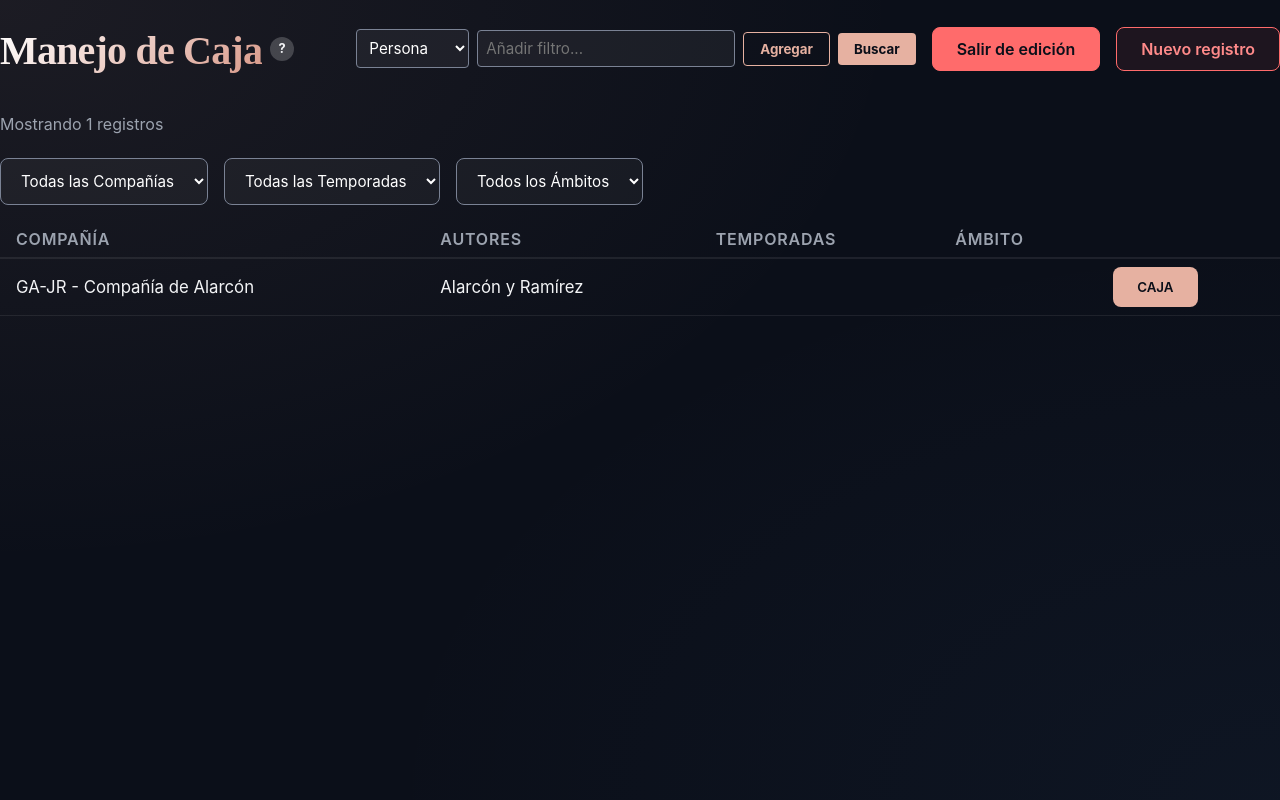
Test case: modo edición en Manejo de Caja › «Nuevo registro» abre el diálogo de alta
Select "Texto libre" in the dropdown named "Buscar en" at (413, 49), box [356,29,469,68]
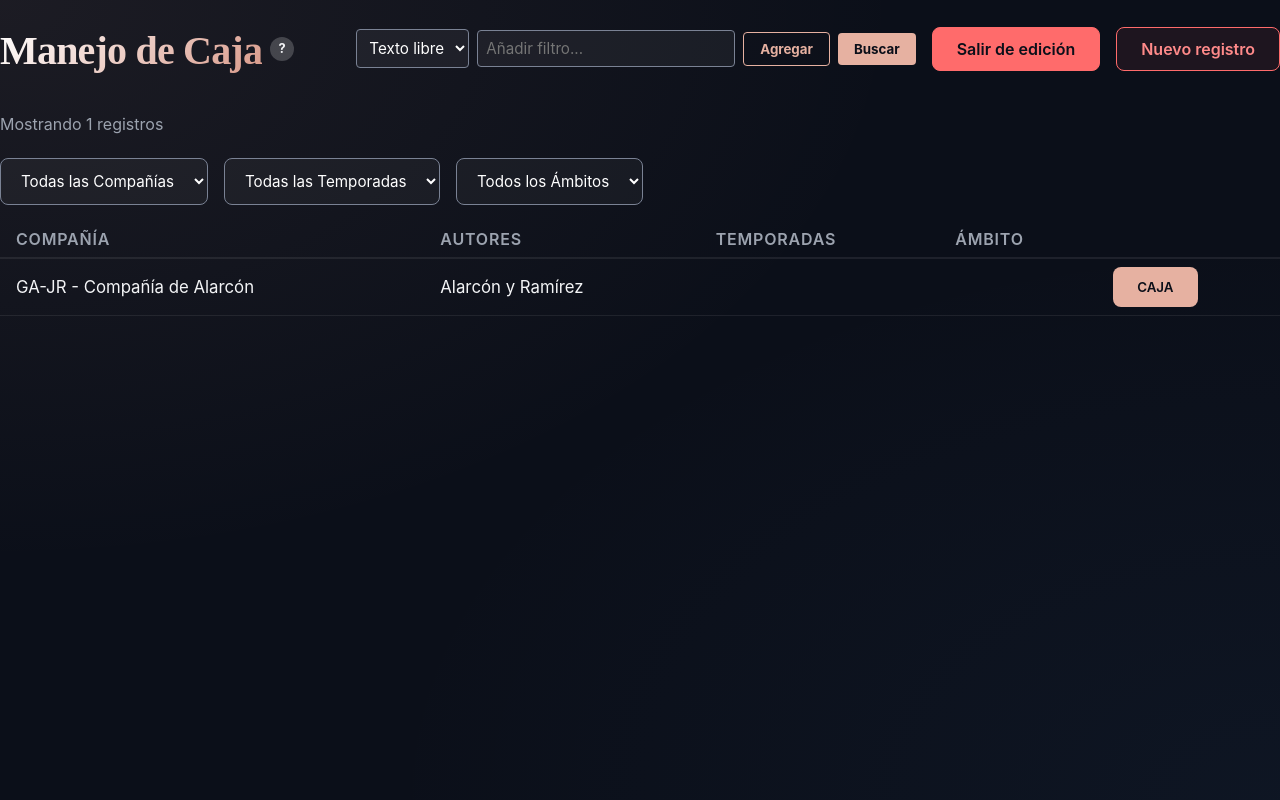
Type "Potosí" into the field with placeholder "Añadir filtro..." at (606, 49), box [477,30,735,67]
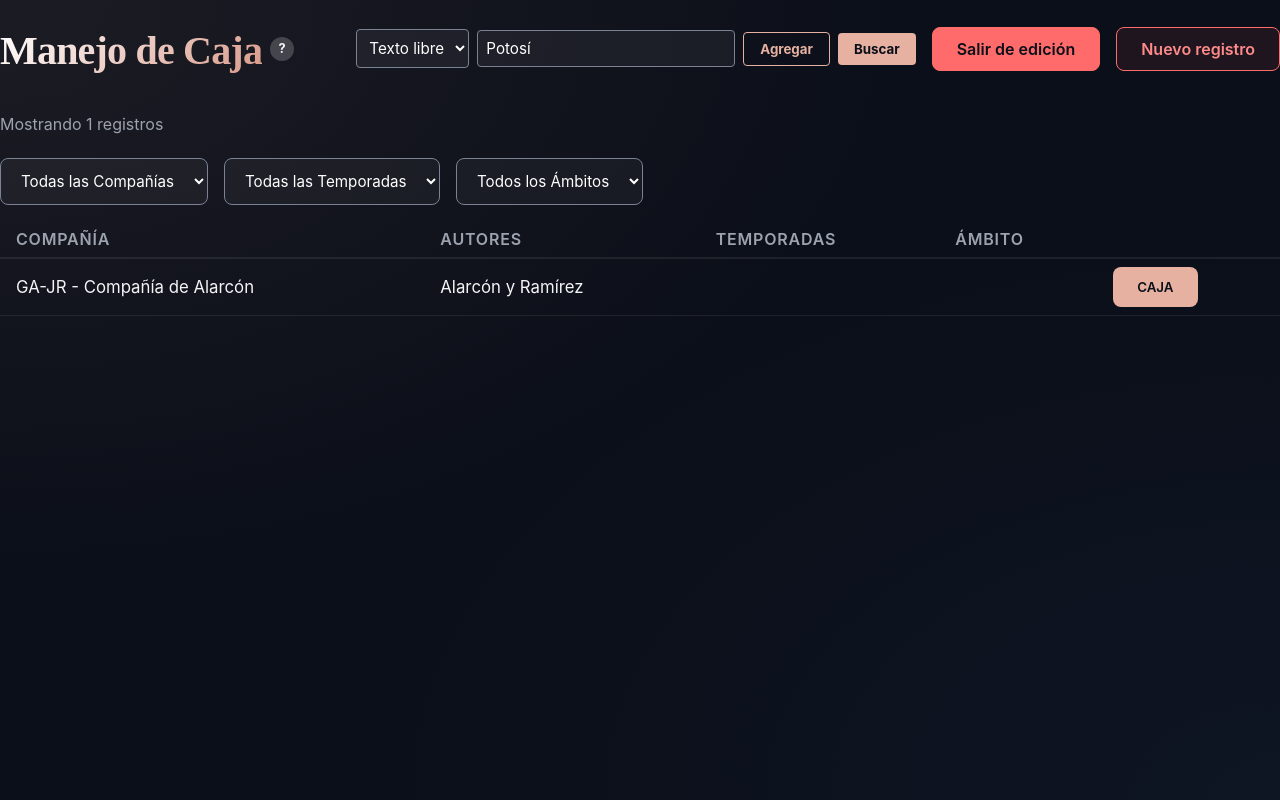
Click the button "Buscar" at (877, 49), box [838,33,916,65]
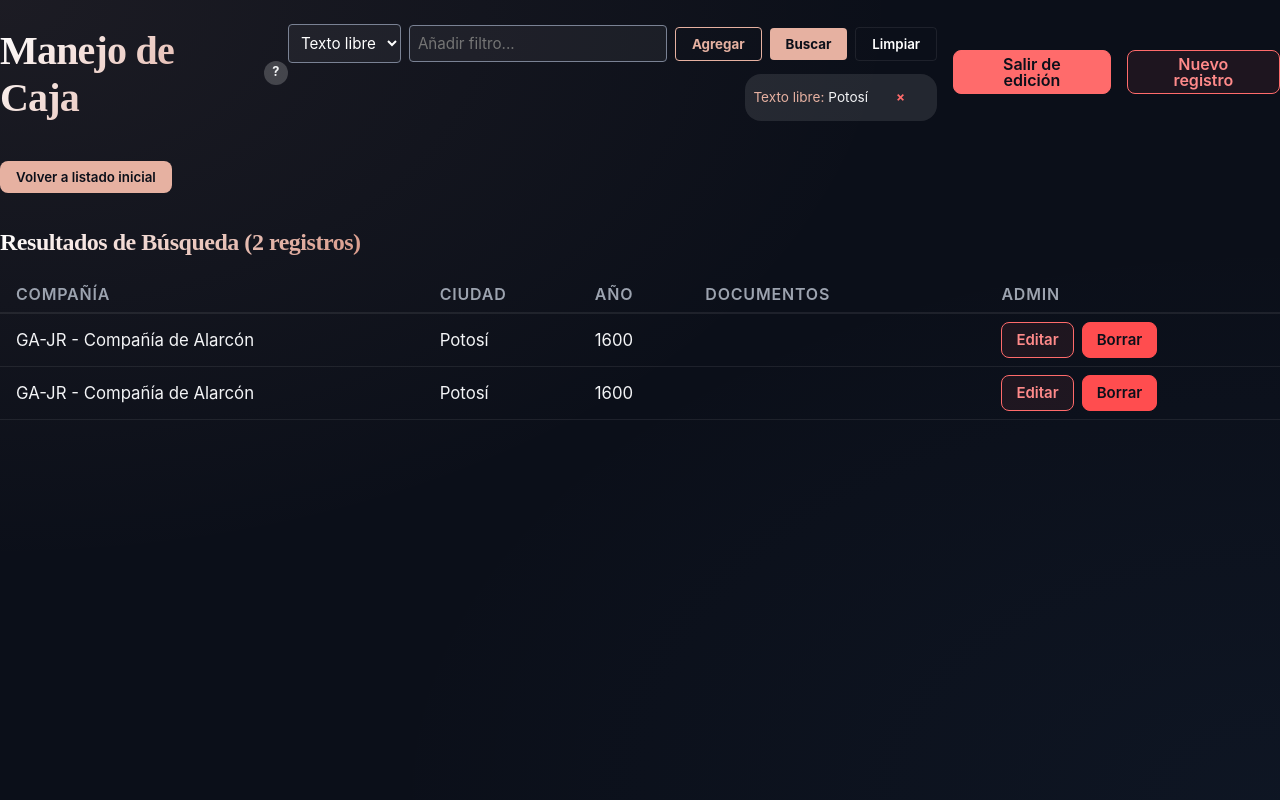
Click the button "Nuevo registro" at (1203, 72), box [1127,50,1279,94]
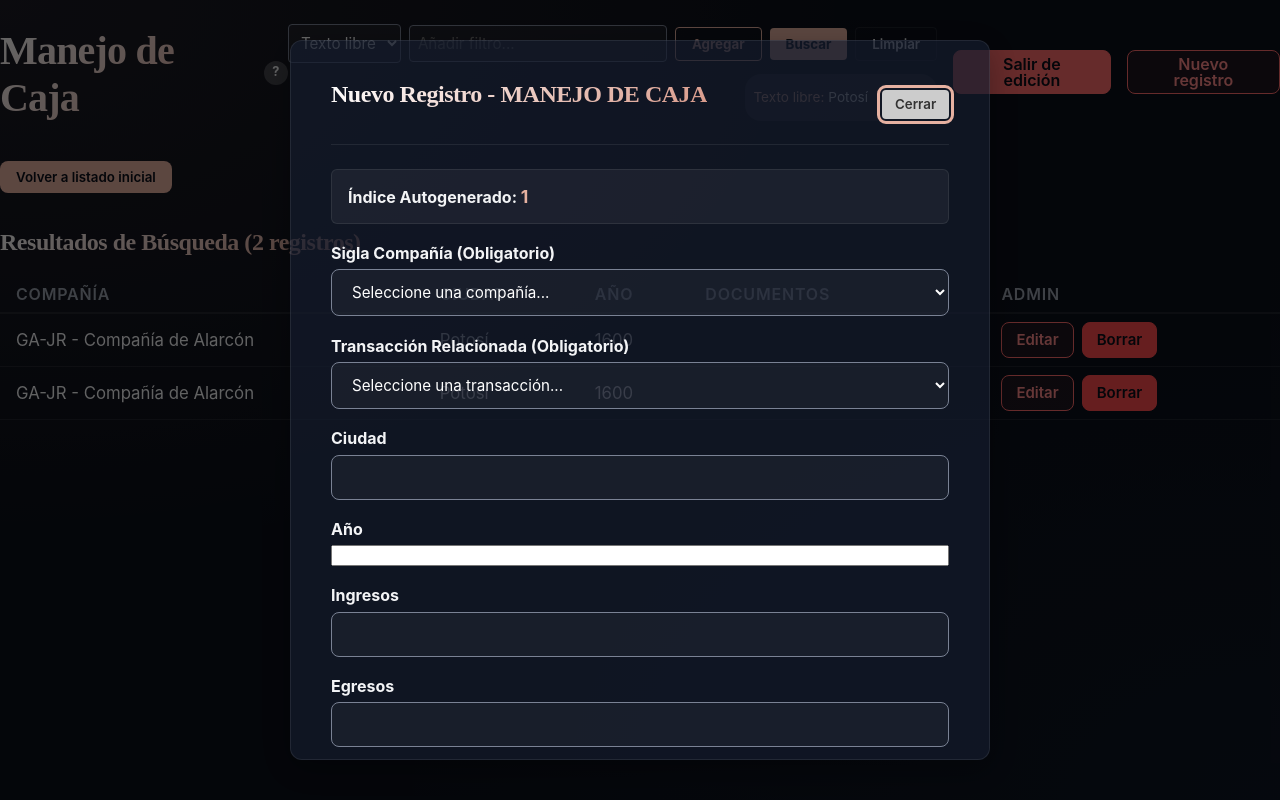
Expected: the dialog "Nuevo Registro - " is shown, [290,40,990,760]
